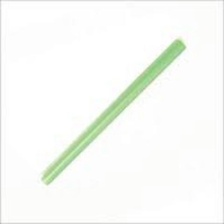drinking_straw: (29, 34, 191, 191)
